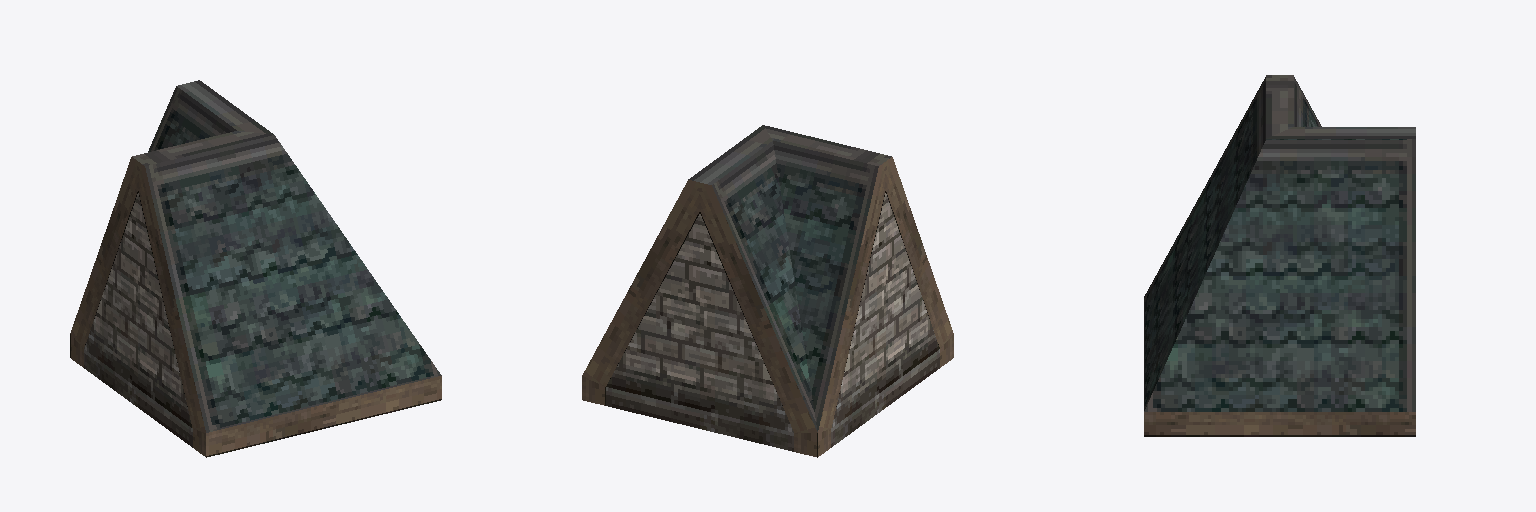
3 views of the same model, side by side, from view 1: azimuth 30°, elevation 25°; view 2: azimuth 150°, elevation 25°; view 3: azimuth 270°, elevation 25° (orthographic).
Parts seen in each view (by area): view 1: roof_corner; view 2: roof_corner; view 3: roof_corner.
Part boxes in pixels (bbox=[...]): roof_corner: bbox=[70, 80, 441, 457]; roof_corner: bbox=[582, 125, 953, 457]; roof_corner: bbox=[1144, 75, 1415, 436].
Size of the model in its own units: 1 by 1 by 1.
Materials: 4 (4 with a texture image).